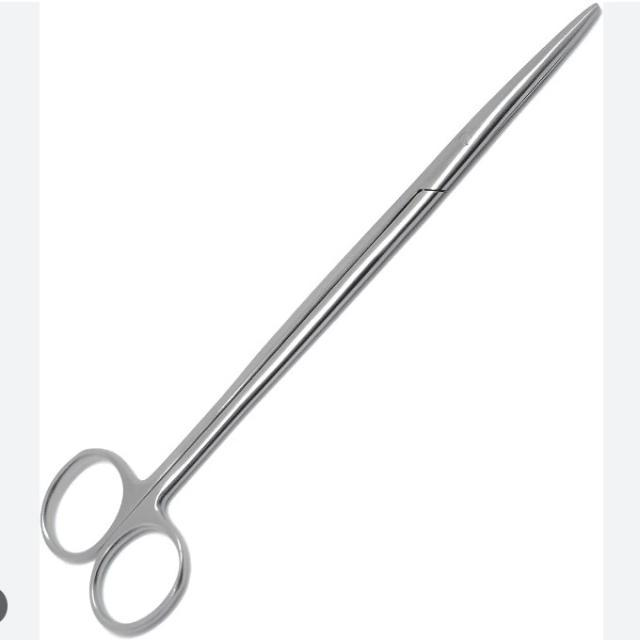Metzenbaum Sciccors: (39, 0, 604, 640)
